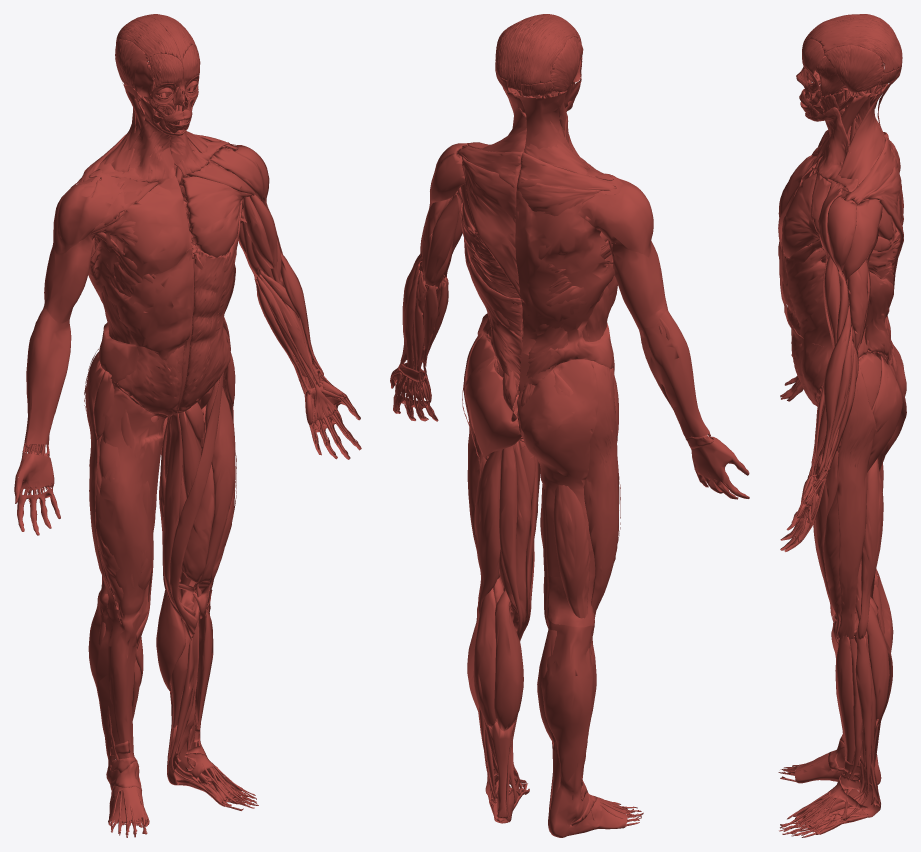
File: muscular.glb
3 renders of one model, left to right at view 1: azimuth 30°, elevation 25°; view 2: azimuth 150°, elevation 25°; view 3: azimuth 270°, elevation 25°, orthographic. The views are drawn at different scales.
Visible parts, largest first — view 1: ZA38D8A0B1, ZAAFB06D34, ZAFB27CA9E, ZA85EB9FD9, FJ1452M, ZAD8C91764, FJ1452, FJ1464M, FJ1433M, ZA653B2173, FJ1434M, ZA3D8B697B (+32 smaller); view 2: ZAAFB06D34, ZA38D8A0B1, ZAFB27CA9E, FJ1423, R3_FMA13359, R3_FMA46768, FJ1520M, ZAD8C91764, FJ1395, FJ1418M, ZA653B2173, ZA3D8B697B (+26 smaller); view 3: FJ1423M, FJ1452M, R3_FMA46768, R3_FMA13359, FJ1395M, R3_FMA46764, FJ1521M, FJ1418M, FJ1464M, FJ1558, ZAFB27CA9E, FJ1487M (+43 smaller).
Boxes of the visible parts, left/top/right/bottom form: ZA38D8A0B1: left=84, top=347, right=167, bottom=614; ZAAFB06D34: left=88, top=239, right=193, bottom=416; ZAFB27CA9E: left=88, top=593, right=149, bottom=822; ZA85EB9FD9: left=100, top=177, right=191, bottom=278; FJ1452M: left=176, top=242, right=237, bottom=413; ZAD8C91764: left=24, top=308, right=71, bottom=444; FJ1452: left=101, top=255, right=184, bottom=416; FJ1464M: left=182, top=176, right=251, bottom=257; FJ1433M: left=192, top=379, right=235, bottom=618; ZA653B2173: left=53, top=175, right=129, bottom=254; FJ1434M: left=170, top=371, right=224, bottom=637; ZA3D8B697B: left=43, top=232, right=92, bottom=323; ZAAFB06D34: left=515, top=198, right=617, bottom=393; ZA38D8A0B1: left=517, top=359, right=620, bottom=627; ZAFB27CA9E: left=541, top=617, right=626, bottom=837; FJ1423: left=583, top=361, right=618, bottom=633; R3_FMA13359: left=460, top=202, right=522, bottom=391; R3_FMA46768: left=495, top=14, right=577, bottom=91; FJ1520M: left=462, top=157, right=520, bottom=297; ZAD8C91764: left=636, top=309, right=709, bottom=438; FJ1395: left=553, top=485, right=591, bottom=642; FJ1418M: left=464, top=355, right=521, bottom=459; ZA653B2173: left=577, top=167, right=653, bottom=257; ZA3D8B697B: left=609, top=240, right=667, bottom=327; FJ1423M: left=837, top=364, right=876, bottom=646; FJ1452M: left=782, top=243, right=868, bottom=406; R3_FMA46768: left=805, top=14, right=902, bottom=73; R3_FMA13359: left=865, top=227, right=900, bottom=363; FJ1395M: left=856, top=458, right=883, bottom=639; R3_FMA46764: left=824, top=45, right=884, bottom=92; FJ1521M: left=838, top=84, right=887, bottom=186; FJ1418M: left=867, top=356, right=902, bottom=472; FJ1464M: left=781, top=173, right=820, bottom=257; FJ1558: left=805, top=107, right=858, bottom=192; ZAFB27CA9E: left=795, top=571, right=893, bottom=784; FJ1487M: left=817, top=304, right=851, bottom=474.
Bounding box in the file's own units: 0.796 × 1.71 × 0.2542.
